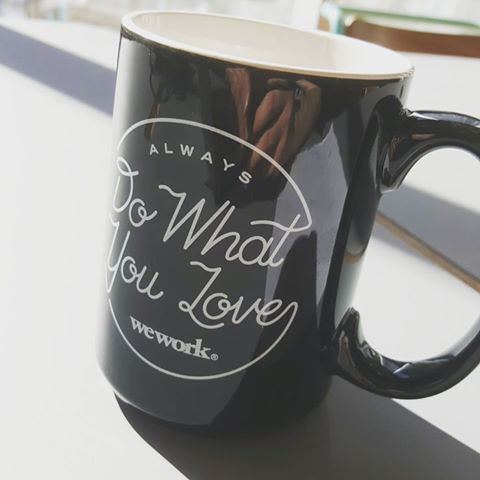wework: (125, 315, 211, 361)
